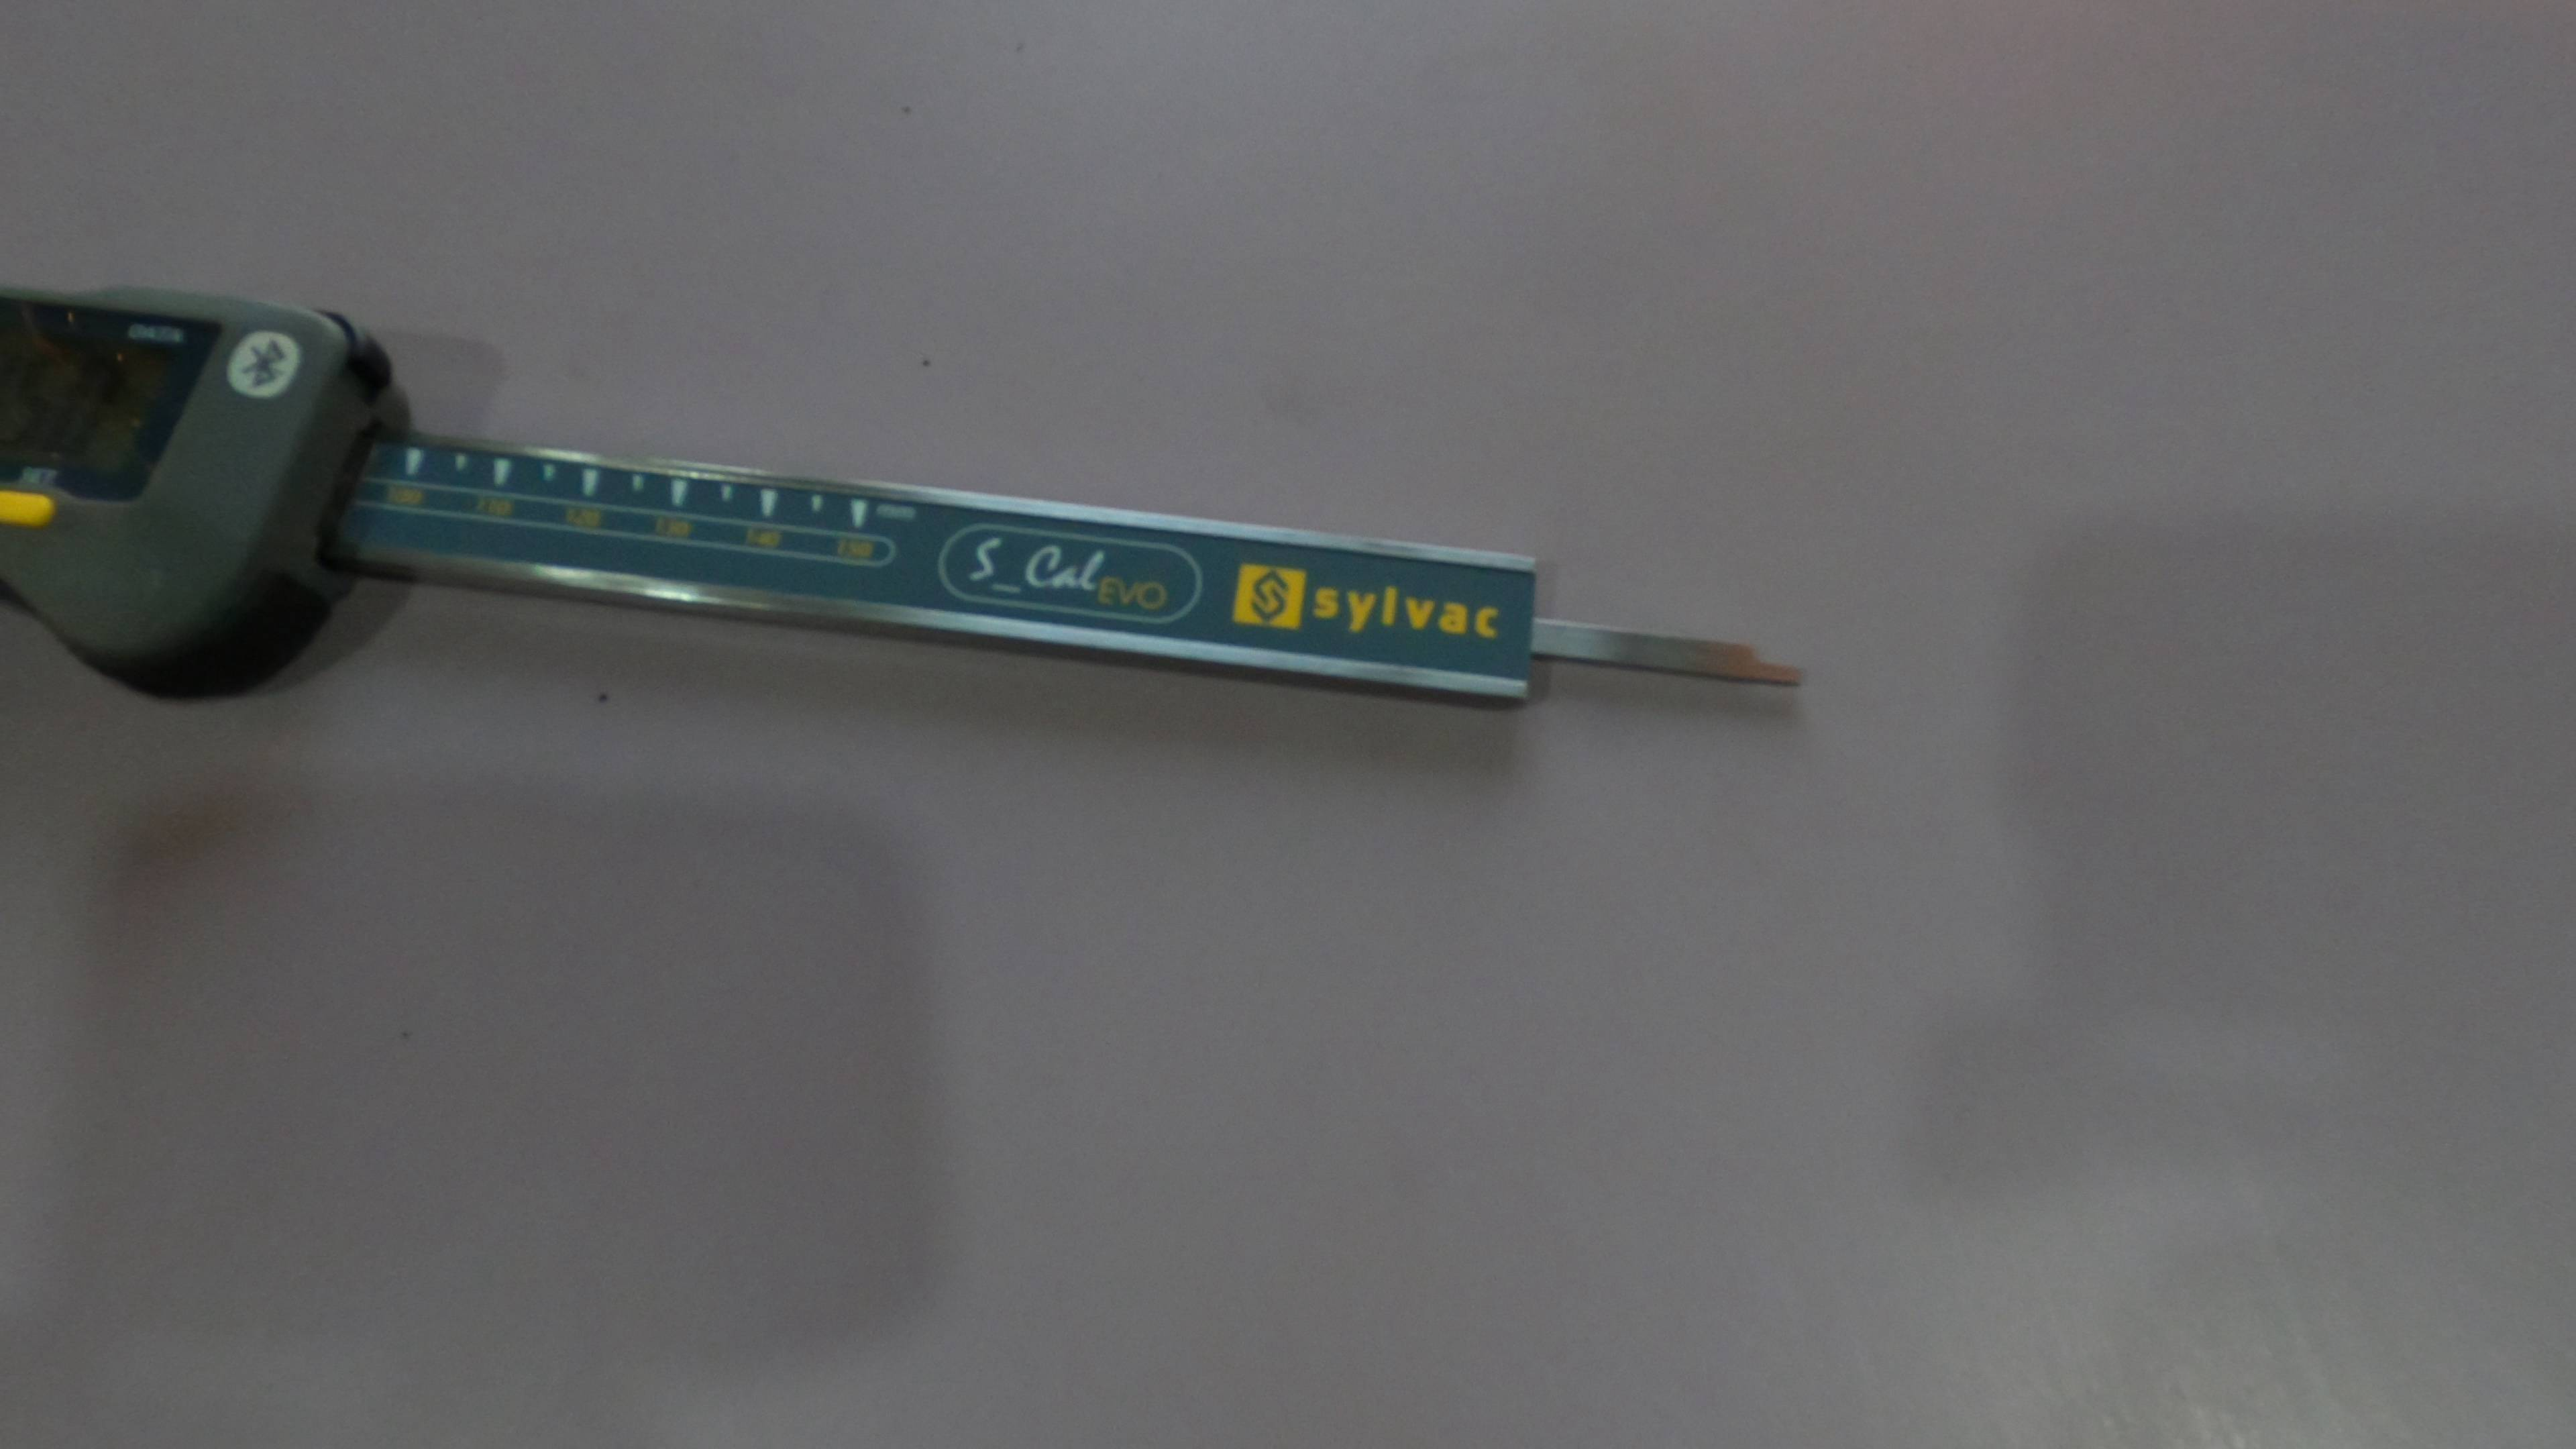vernier_caliper: (0, 241, 1805, 722)
